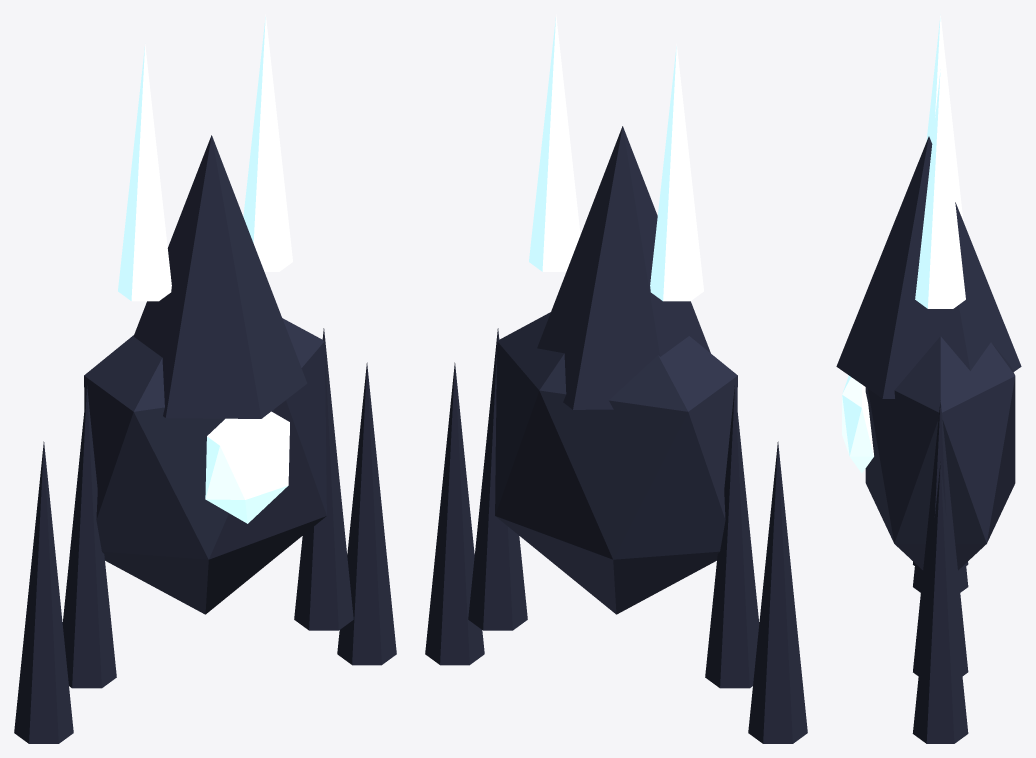
File: rift-creature-1-lod2.glb
3 views of the same model, side by side, from view 1: azimuth 30°, elevation 25°; view 2: azimuth 150°, elevation 25°; view 3: azimuth 270°, elevation 25° (orthographic). The views are drawn at different scales.
Parts seen in each view (by area): view 1: Body, Head, Claw.-1.1, Claw.1.1, Claw.-1.0, Core, Horn.-1, Claw.1.0, Horn.1; view 2: Body, Head, Claw.-1.1, Claw.1.1, Claw.-1.0, Horn.-1, Horn.1, Claw.1.0; view 3: Body, Head, Claw.1.1, Horn.1, Claw.1.0, Core, Horn.-1, Claw.-1.1.
Part boxes in pixels (bbox=[...]): Body: bbox=[84, 318, 326, 614]; Head: bbox=[133, 135, 307, 418]; Claw.-1.1: bbox=[14, 441, 73, 743]; Claw.1.1: bbox=[337, 362, 396, 665]; Claw.-1.0: bbox=[62, 386, 116, 688]; Core: bbox=[205, 411, 289, 523]; Horn.-1: bbox=[118, 44, 171, 301]; Claw.1.0: bbox=[294, 328, 353, 630]; Horn.1: bbox=[243, 14, 292, 271]; Body: bbox=[495, 312, 737, 614]; Head: bbox=[537, 126, 710, 409]; Claw.-1.1: bbox=[748, 441, 807, 743]; Claw.1.1: bbox=[425, 362, 484, 665]; Claw.-1.0: bbox=[705, 386, 759, 688]; Horn.-1: bbox=[650, 44, 703, 301]; Horn.1: bbox=[529, 14, 580, 271]; Claw.1.0: bbox=[468, 328, 527, 630]; Body: bbox=[865, 336, 1015, 570]; Head: bbox=[836, 136, 1021, 398]; Claw.1.1: bbox=[912, 462, 968, 743]; Horn.1: bbox=[915, 69, 965, 308]; Claw.1.0: bbox=[913, 400, 968, 676]; Core: bbox=[842, 375, 873, 473]; Horn.-1: bbox=[926, 15, 963, 220]; Claw.-1.1: bbox=[913, 566, 968, 592].
Size of the model in its own units: 1.71 by 2.95 by 0.8.
